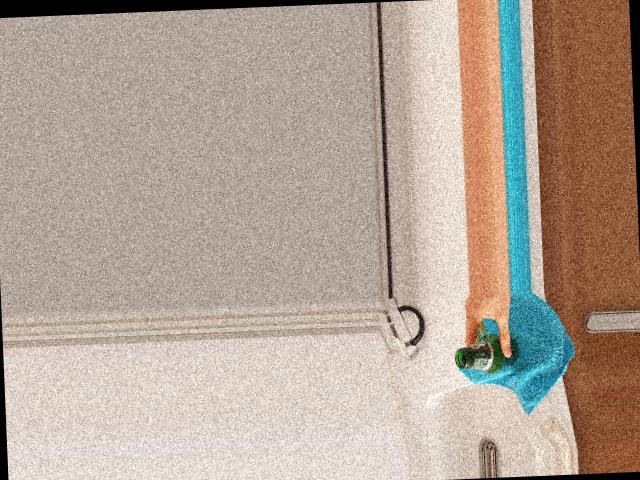beer: (455, 335, 520, 374)
